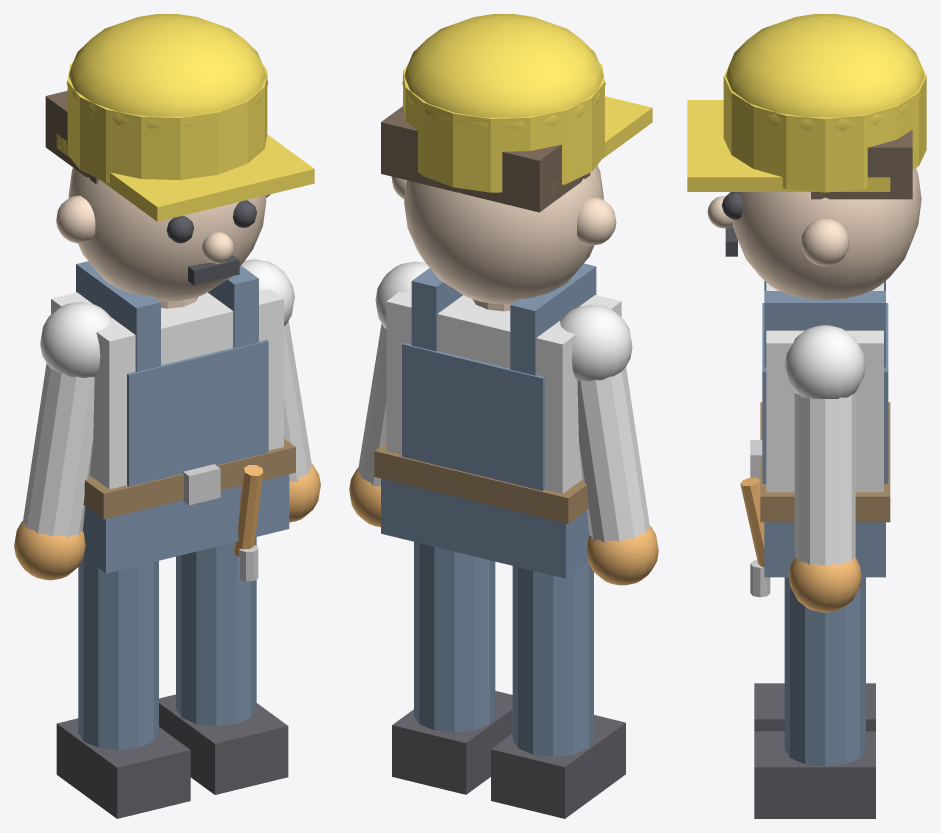
The model's file is player.glb.
3 renders of one model, left to right at view 1: azimuth 30°, elevation 25°; view 2: azimuth 150°, elevation 25°; view 3: azimuth 270°, elevation 25°, orthographic.
Parts seen in each view (by area): view 1: hat_top, overall_front, leg_-0.28, leg_0.28, hat_dome, torso, head, hip, arm_-1, boot_-0.28, boot_0.28, hat_brim (+16 smaller); view 2: hat_top, head, overall_front, leg_-0.28, leg_0.28, torso, hat_dome, hip, arm_-1, boot_-0.28, boot_0.28, hair (+10 smaller); view 3: hat_top, head, leg_0.28, hat_dome, arm_1, torso, boot_0.28, hat_brim, shoulder_1, strap_r, hip, glove_1 (+10 smaller).
Part boxes in pixels (<box>): hat_top: <box>66,14,268,128</box>; overall_front: <box>127,339,268,486</box>; leg_-0.28: <box>78,557,158,749</box>; leg_0.28: <box>176,537,256,726</box>; hat_dome: <box>67,62,267,183</box>; torso: <box>51,289,283,489</box>; head: <box>68,167,266,301</box>; hip: <box>82,474,289,573</box>; arm_-1: <box>22,363,94,537</box>; boot_-0.28: <box>56,718,190,818</box>; boot_0.28: <box>159,694,288,794</box>; hat_brim: <box>56,134,314,221</box>; hat_top: <box>402,14,605,129</box>; head: <box>404,165,603,304</box>; overall_front: <box>402,343,544,490</box>; leg_-0.28: <box>512,562,593,756</box>; leg_0.28: <box>414,542,495,732</box>; torso: <box>386,292,621,493</box>; hat_dome: <box>403,62,604,192</box>; hip: <box>381,478,589,578</box>; arm_-1: <box>577,366,649,542</box>; boot_-0.28: <box>491,715,625,818</box>; boot_0.28: <box>392,691,512,794</box>; hair: <box>381,106,590,212</box>; hat_top: <box>724,14,926,131</box>; head: <box>729,168,921,300</box>; leg_0.28: <box>784,577,865,766</box>; hat_dome: <box>723,62,926,192</box>; arm_1: <box>794,392,855,565</box>; torso: <box>766,282,883,492</box>; boot_0.28: <box>754,731,875,818</box>; hat_brim: <box>687,100,890,191</box>; shoulder_1: <box>784,325,865,398</box>; strap_r: <box>764,291,885,367</box>; hip: <box>764,522,885,577</box>; glove_1: <box>788,557,861,612</box>.
Size of the model in its own units: 1.7 by 4.07 by 1.18.
